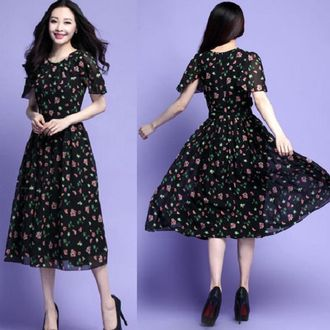C_dress: (152, 46, 318, 245), (15, 52, 106, 271)
